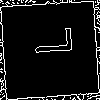L: (25, 25, 73, 57)
